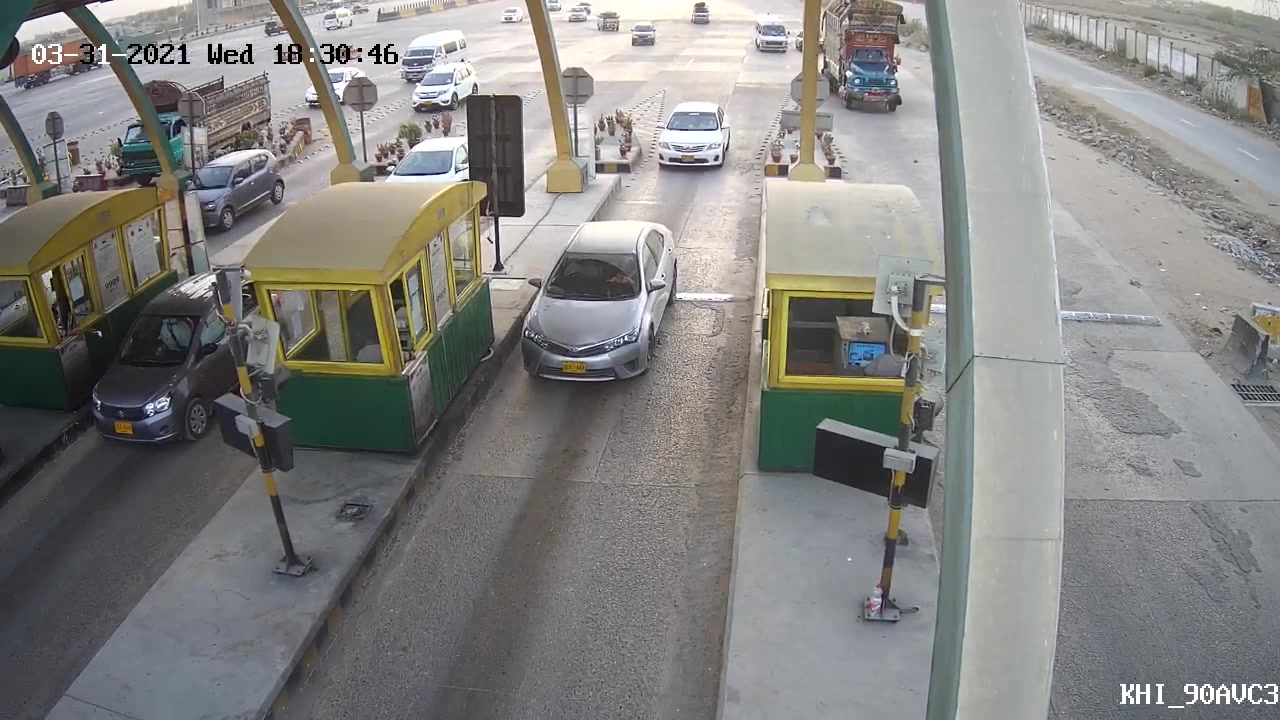F1: (504, 212, 687, 385), (654, 92, 739, 175)
